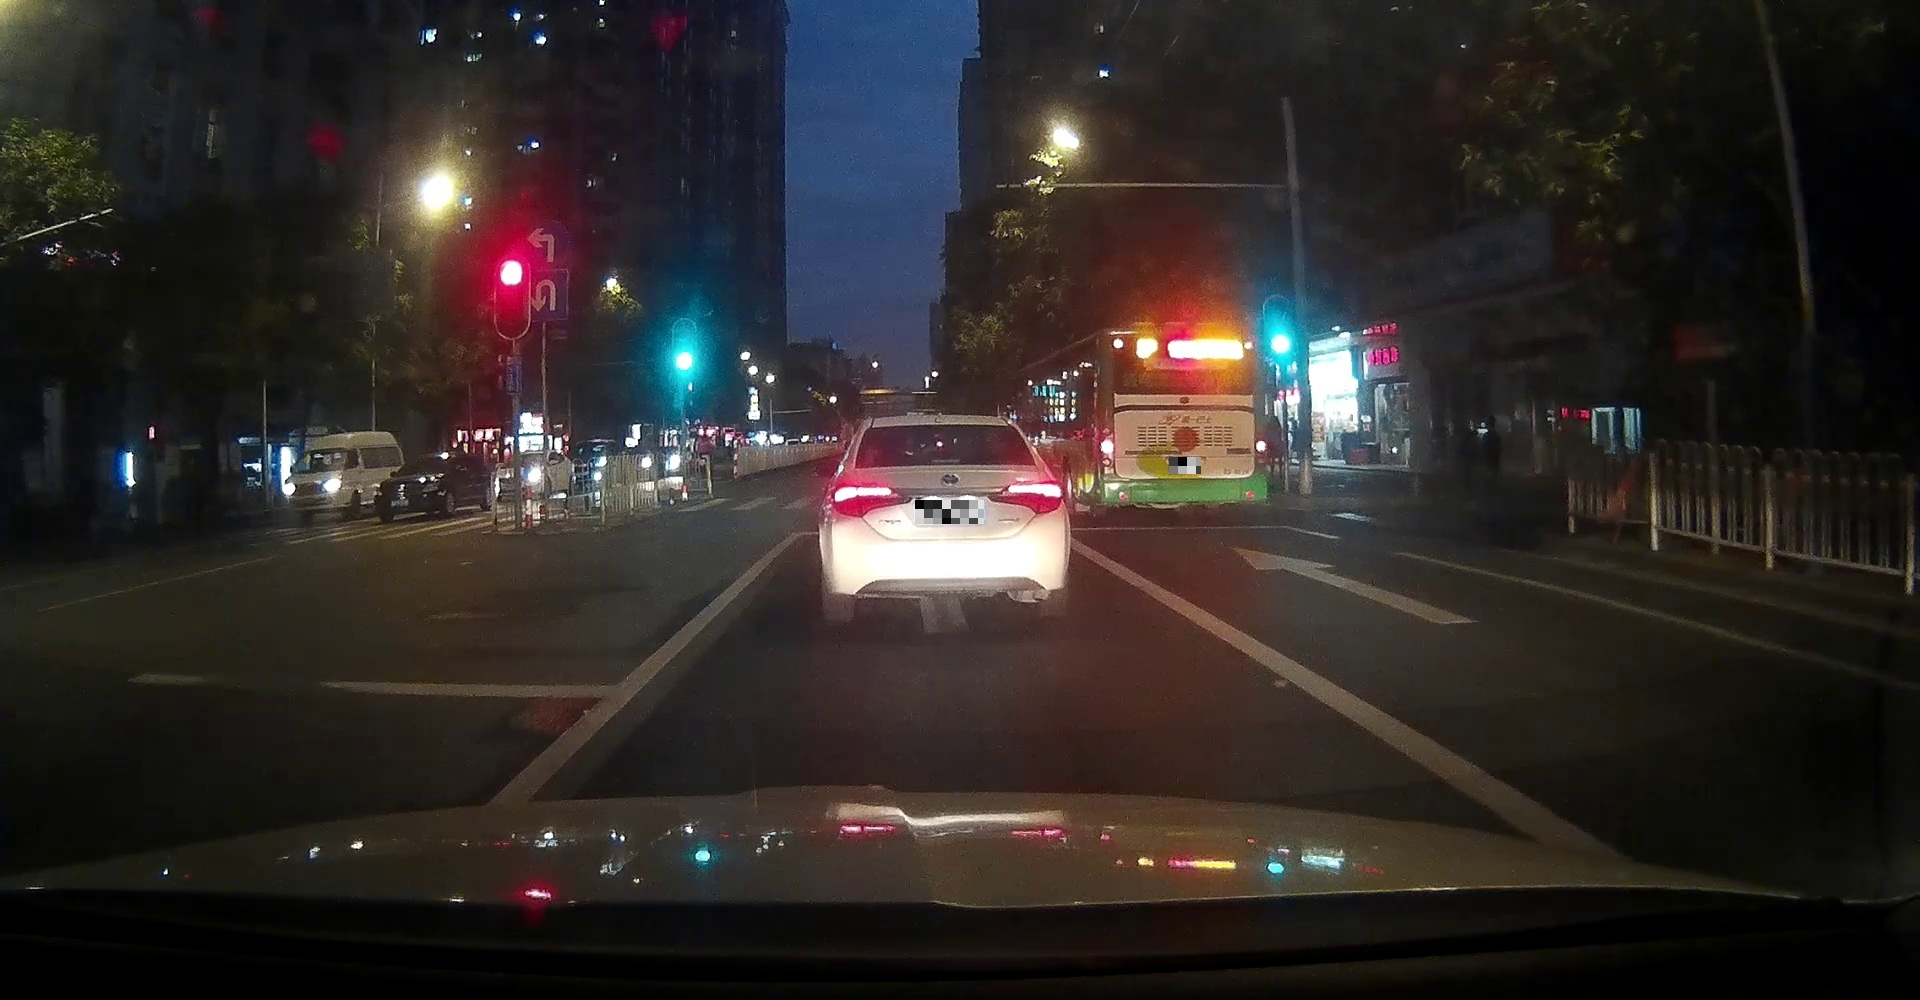L_light: (830, 481, 912, 518), (1100, 426, 1114, 467)
R_light: (987, 480, 1063, 514), (1255, 430, 1267, 464)
T_light: (930, 458, 961, 464), (1171, 332, 1194, 339)
night-no: (819, 414, 1069, 624), (1095, 324, 1267, 518)
plate_1: (916, 500, 984, 524)
plate_2: (1170, 457, 1201, 475)
